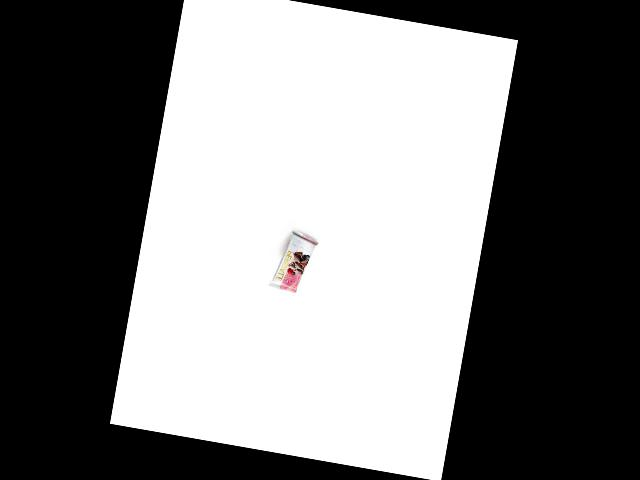chocolate: (268, 230, 320, 295)
